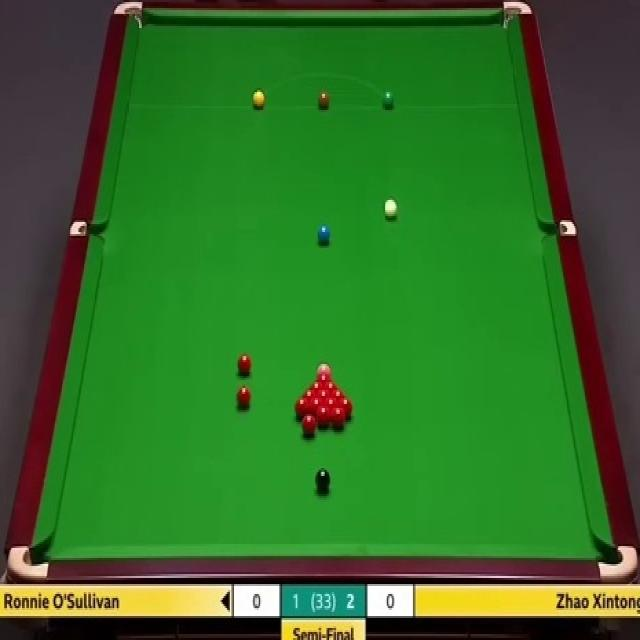pocket: (7, 543, 50, 582), (600, 542, 638, 578), (112, 0, 147, 32), (500, 0, 532, 34), (67, 220, 101, 237), (542, 218, 577, 234)
